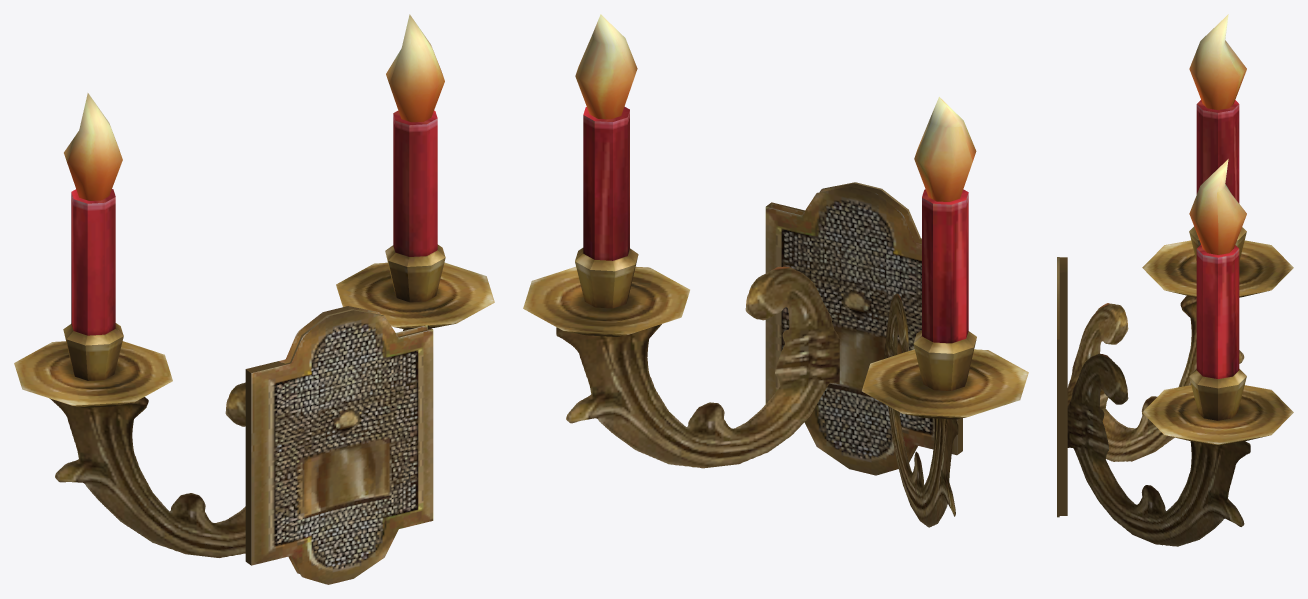
File: furni_0200302.FBX
3 renders of one model, left to right at view 1: azimuth 30°, elevation 25°; view 2: azimuth 150°, elevation 25°; view 3: azimuth 270°, elevation 25°, orthographic. The views are drawn at different scales.
Visible parts, largest first — view 1: furni_0200302; view 2: furni_0200302; view 3: furni_0200302.
Boxes of the visible parts, <box> form: furni_0200302: <box>14,14,494,584</box>; furni_0200302: <box>523,14,1028,527</box>; furni_0200302: <box>1057,14,1293,546</box>.
Size of the model in its own units: 72.79 by 68.94 by 34.88.
Materials: 1 (1 with a texture image).
